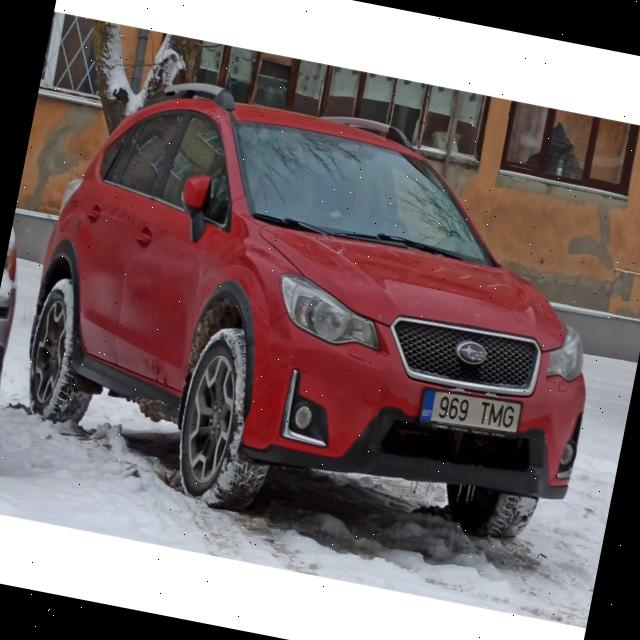License-plate: (415, 383, 522, 436)
